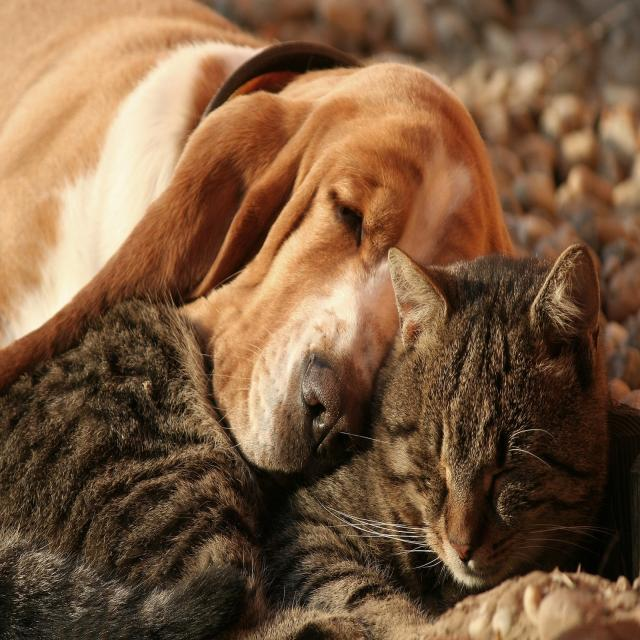cat: (5, 237, 639, 640)
dog: (2, 4, 508, 469)
